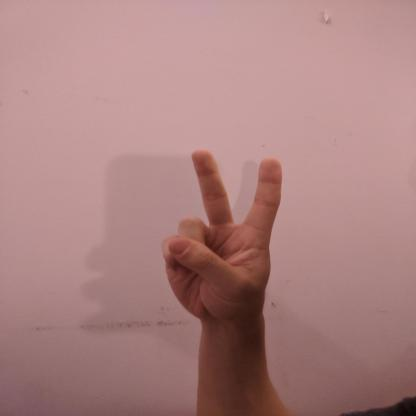V: (161, 149, 282, 322)
